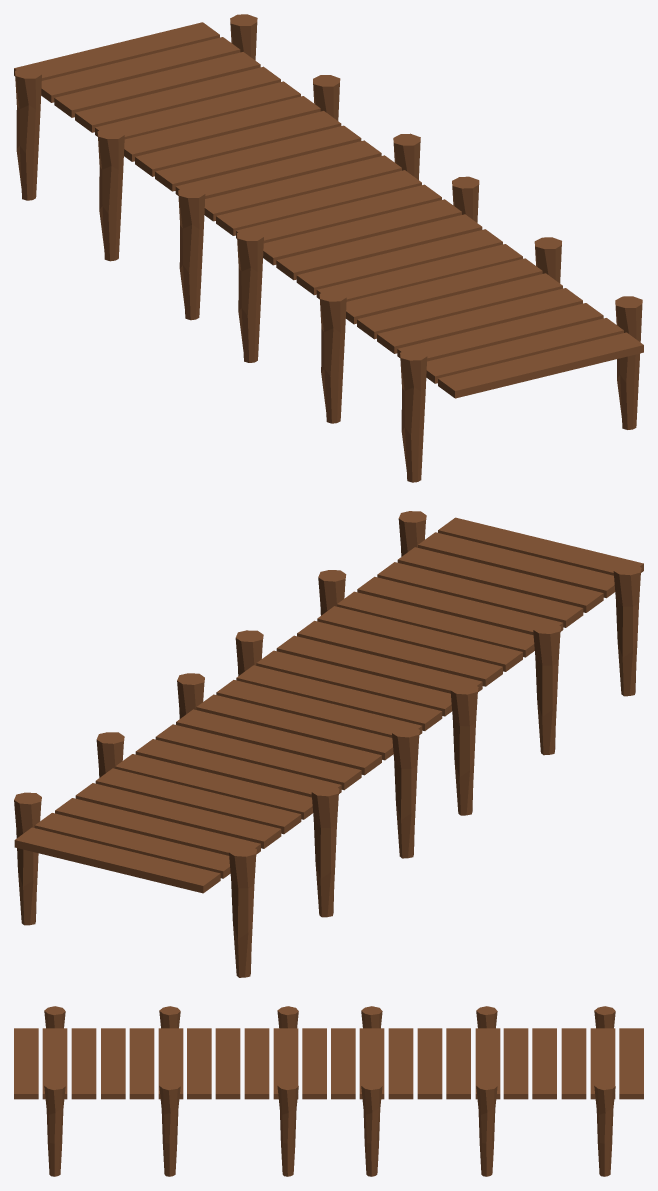
The model's file is Dock.obj.
3 renders of one model, top to bottom at view 1: azimuth 30°, elevation 25°; view 2: azimuth 150°, elevation 25°; view 3: azimuth 270°, elevation 25°, orthographic. The views are drawn at different scales.
Visible parts, largest first — view 1: Cube.022_Cube.027; view 2: Cube.022_Cube.027; view 3: Cube.022_Cube.027.
Part boxes in pixels (left/top/right/bottom): Cube.022_Cube.027: left=14, top=14, right=643, bottom=482; Cube.022_Cube.027: left=14, top=511, right=643, bottom=977; Cube.022_Cube.027: left=14, top=1006, right=643, bottom=1176.
Bounding box in the file's own units: 4.21 × 2.08 × 13.33.
